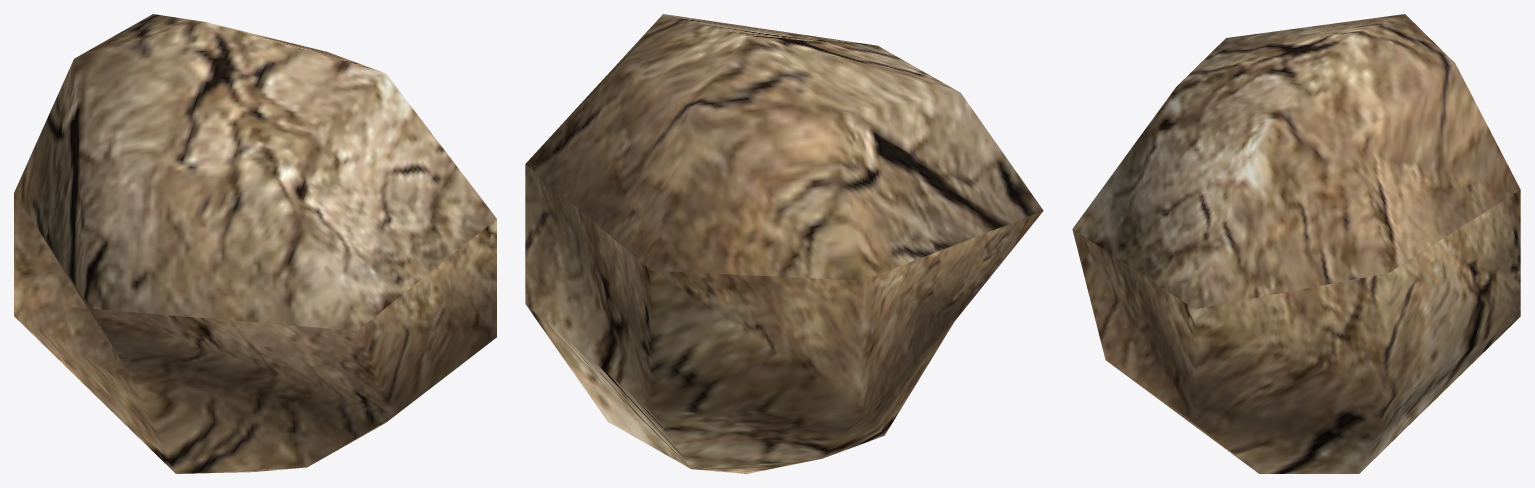
File: des_rockB.fbx
3 renders of one model, left to right at view 1: azimuth 30°, elevation 25°; view 2: azimuth 150°, elevation 25°; view 3: azimuth 270°, elevation 25°, orthographic. The views are drawn at different scales.
Visible parts, largest first — view 1: Sphere.004; view 2: Sphere.004; view 3: Sphere.004.
Part boxes in pixels (bbox=[...]): Sphere.004: bbox=[14, 14, 496, 473]; Sphere.004: bbox=[525, 14, 1043, 473]; Sphere.004: bbox=[1072, 14, 1520, 473].
Size of the model in its own units: 164 by 170 by 164.
1 material, 1 textured.
